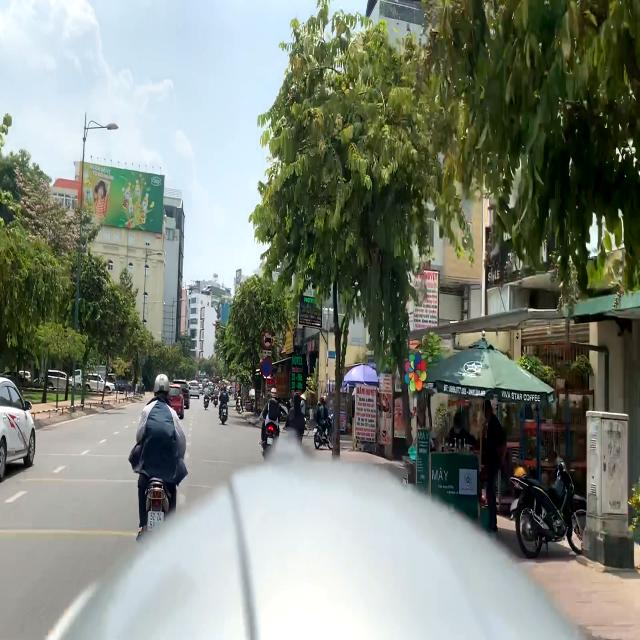P.131a: (261, 357, 272, 378)
